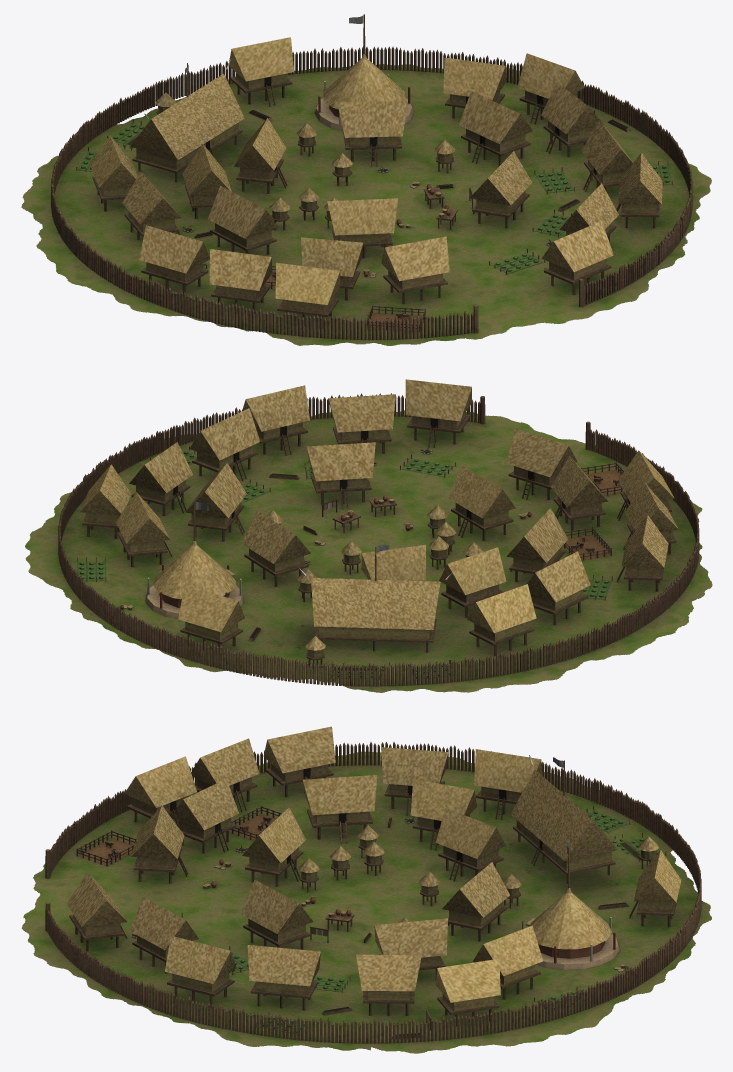
File: stone-town-big-a-monsoon.glb
3 renders of one model, top to bottom at view 1: azimuth 30°, elevation 25°; view 2: azimuth 150°, elevation 25°; view 3: azimuth 270°, elevation 25°, orthographic. The views are drawn at different scales.
Parts seen in each view (by area): view 1: LOD0; view 2: LOD0; view 3: LOD0.
Part boxes in pixels (bbox=[...]): LOD0: bbox=[21, 14, 711, 345]; LOD0: bbox=[25, 379, 712, 692]; LOD0: bbox=[21, 726, 711, 1053].
Size of what is drawn, in the model's own units: 7.98 by 1.25 by 7.71.
3 materials, 3 textured.
